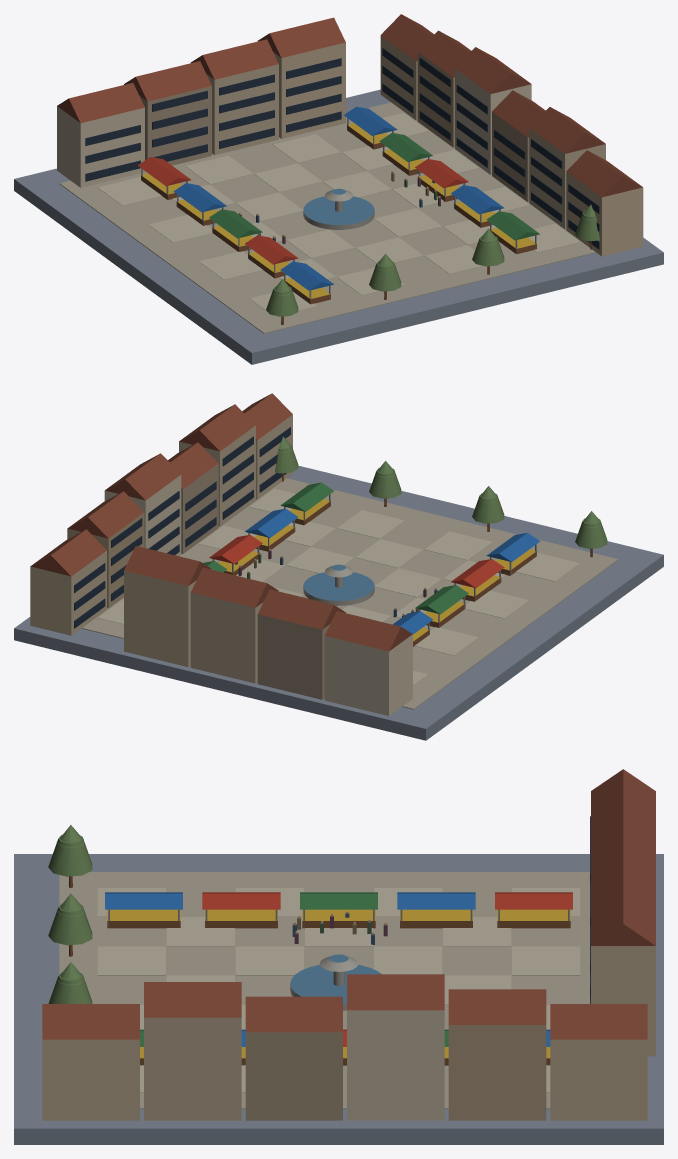
The model's file is town_square.glb.
The picture shows the model from 3 angles, top to bottom: view 1: azimuth 30°, elevation 25°; view 2: azimuth 150°, elevation 25°; view 3: azimuth 270°, elevation 25°; orthographic projection. The views are drawn at different scales.
Visible parts, largest first — view 1: town_square; view 2: town_square; view 3: town_square.
Part boxes in pixels (left/top/right/bottom): town_square: left=14, top=14, right=663, bottom=364; town_square: left=14, top=393, right=663, bottom=740; town_square: left=14, top=769, right=663, bottom=1144.
Bounding box in the file's own units: 80 × 20.35 × 80.
